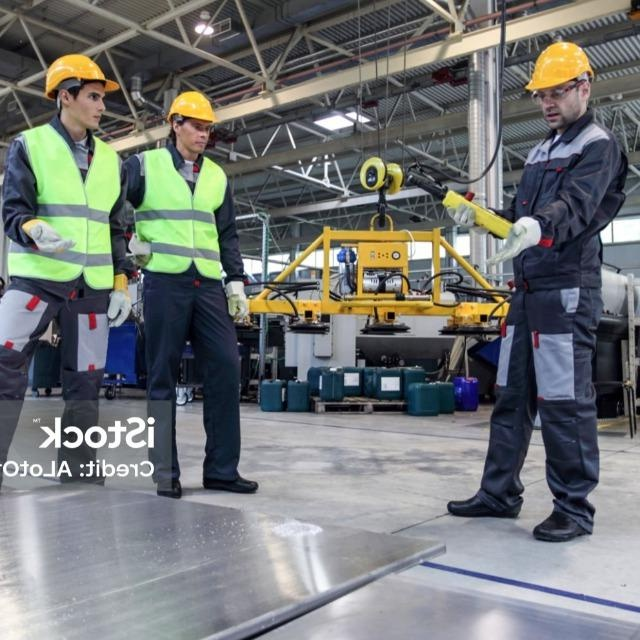Con_Chaleco: (4, 127, 121, 291), (132, 147, 232, 275)
